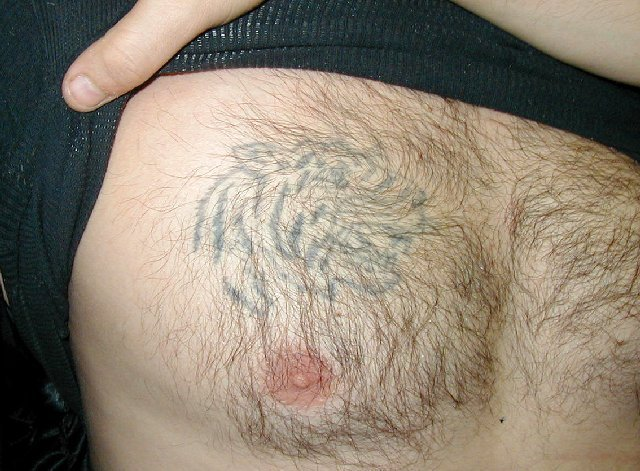tatu5_tigr: (169, 136, 433, 316)
